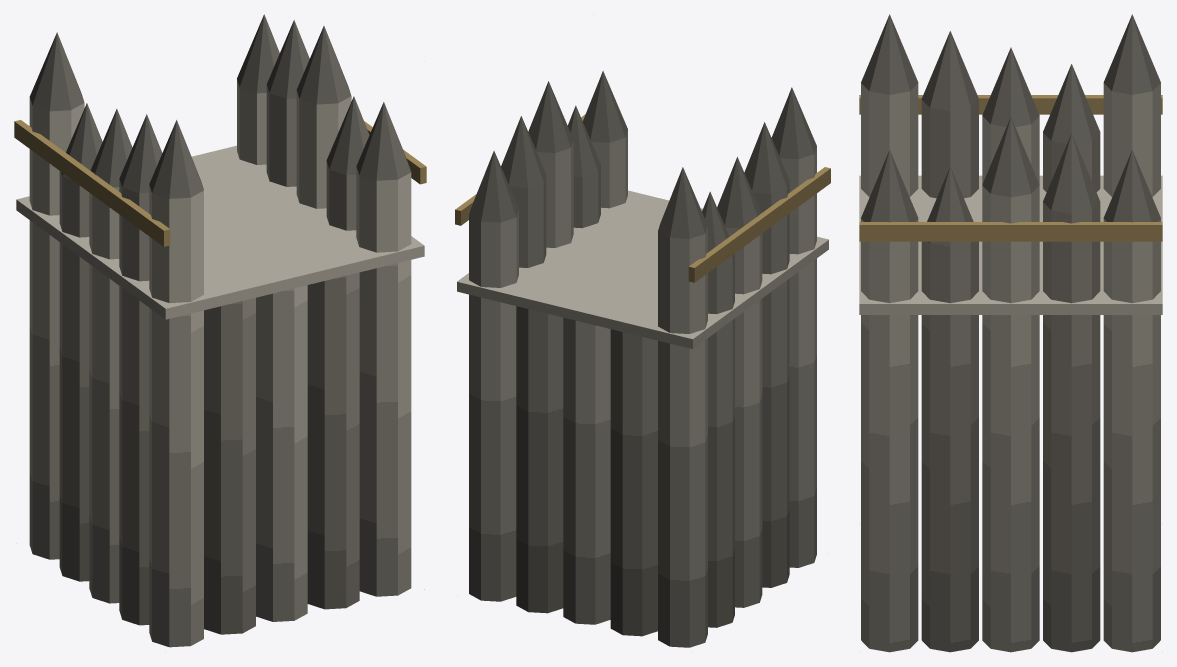
The model's file is perimeter_wall_stone_f5.glb.
3 renders of one model, left to right at view 1: azimuth 30°, elevation 25°; view 2: azimuth 150°, elevation 25°; view 3: azimuth 270°, elevation 25°, orthographic. The views are drawn at different scales.
Bounding box in the file's own units: 2.03 × 3.9 × 2.
1 material, 1 textured.
